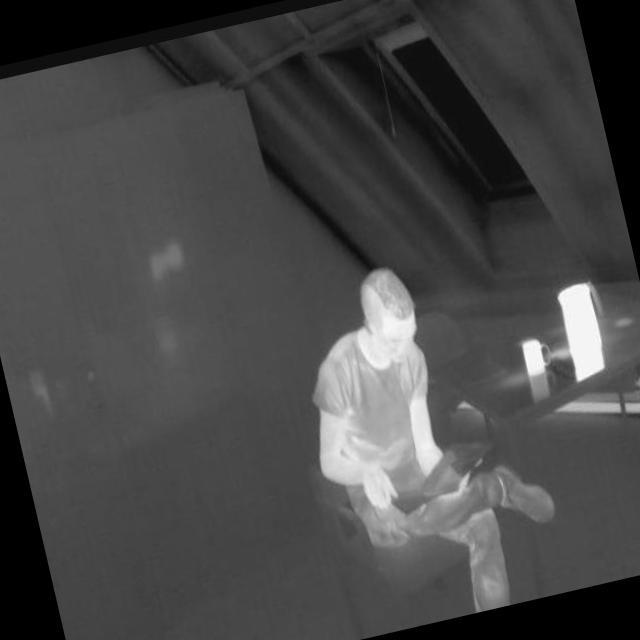person: (277, 238, 577, 640)
